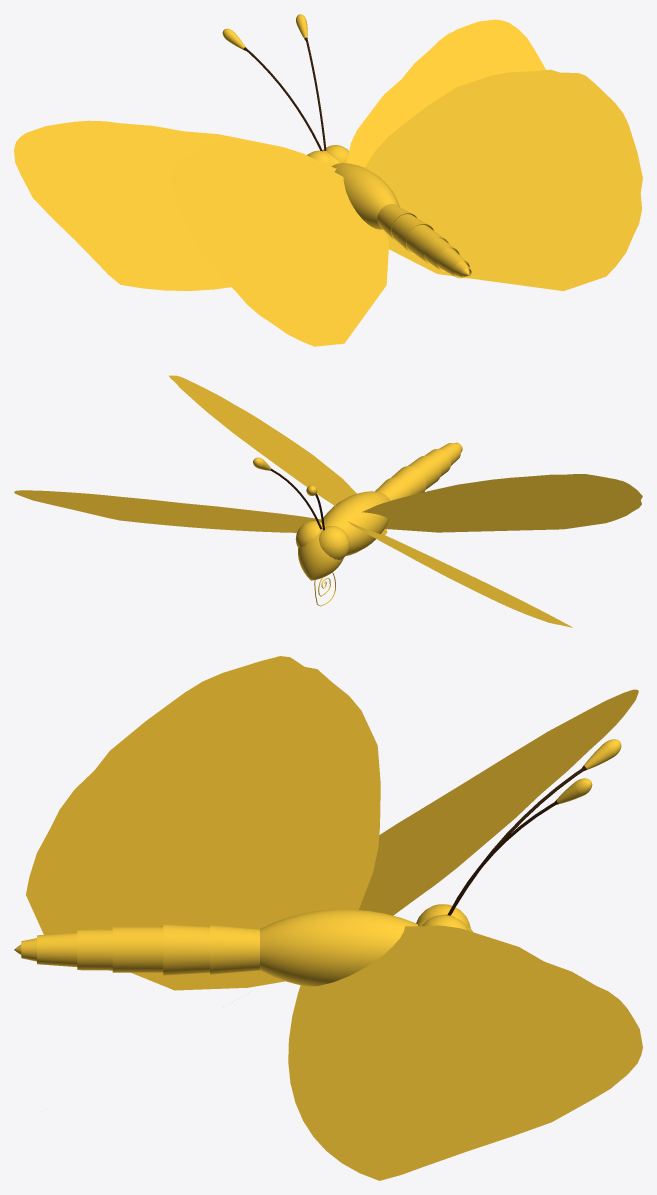
The model's file is butterfly1.fbx.
3 renders of one model, top to bottom at view 1: azimuth 30°, elevation 25°; view 2: azimuth 150°, elevation 25°; view 3: azimuth 270°, elevation 25°, orthographic. The views are drawn at different scales.
Parts seen in each view (by area): view 1: Group8, Group5, Group4, Group7, Group1; view 2: Group5, Group1, Group7, Group8, Group4; view 3: Group5, Group7, Group1, Group4.
Boxes of the visible parts, bbox=[...] form: Group8: bbox=[364, 69, 642, 291]; Group5: bbox=[169, 140, 388, 346]; Group4: bbox=[14, 120, 336, 290]; Group7: bbox=[346, 19, 545, 167]; Group1: bbox=[222, 14, 471, 278]; Group5: bbox=[362, 474, 642, 532]; Group1: bbox=[253, 442, 462, 606]; Group7: bbox=[14, 490, 328, 532]; Group8: bbox=[169, 375, 387, 534]; Group4: bbox=[347, 521, 572, 627]; Group5: bbox=[26, 656, 380, 990]; Group7: bbox=[288, 925, 642, 1180]; Group1: bbox=[14, 739, 621, 986]; Group4: bbox=[359, 689, 638, 915].
Bounding box in the file's own units: 1038 × 342 × 712.
